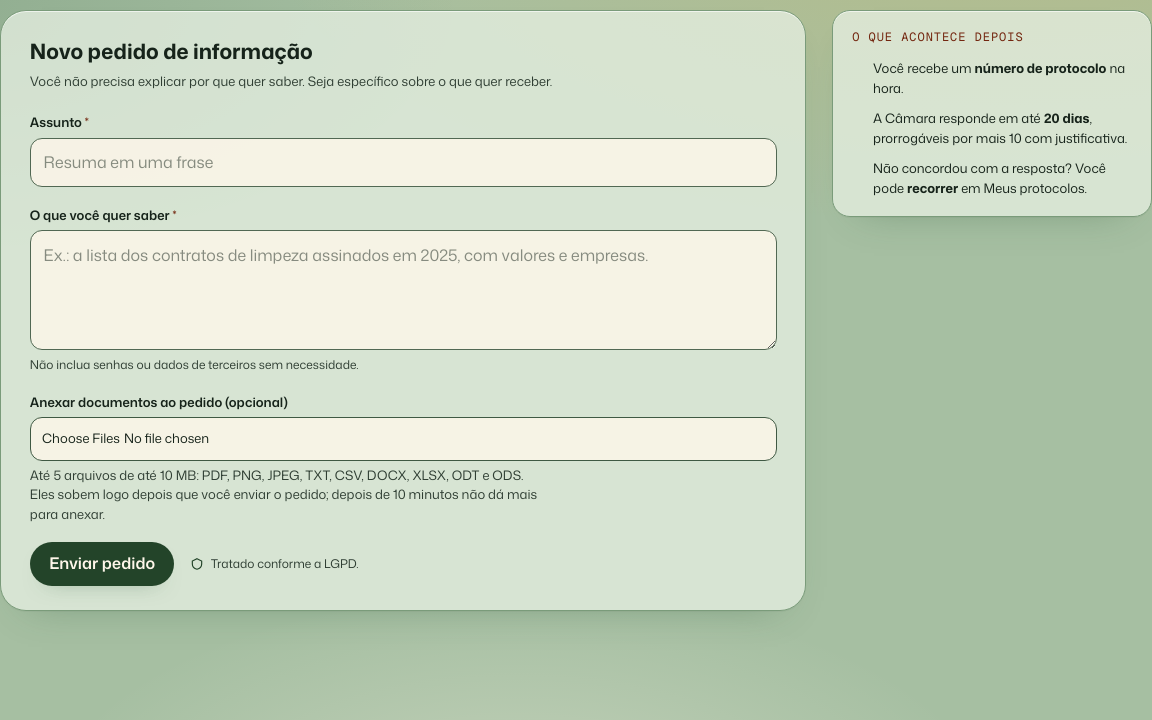
Test: formulários do cidadão › e-SIC: envia assunto e descrição e mostra o recibo com o protocolo
In the field labelled "Assunto *": (403, 163) [30, 138, 777, 187], type "Contratos de 2025"
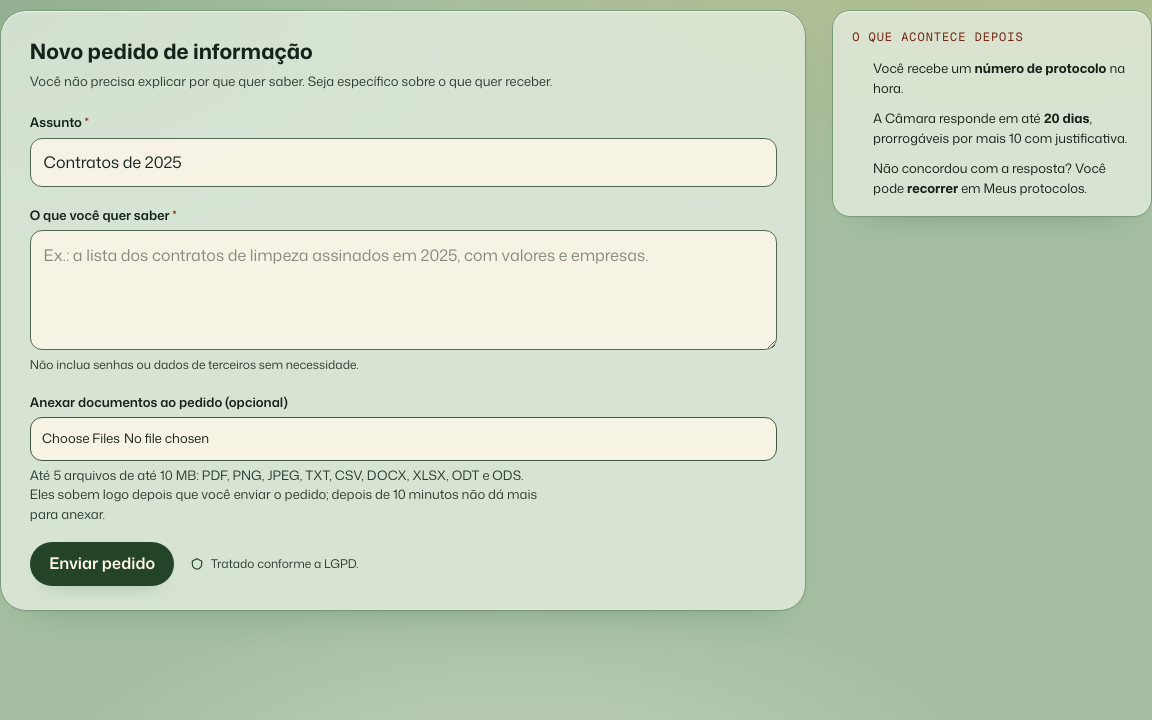
Replace the text in the text box labelled "O que você quer saber *" with "A lista dos contratos.": (403, 290) [30, 230, 777, 350]
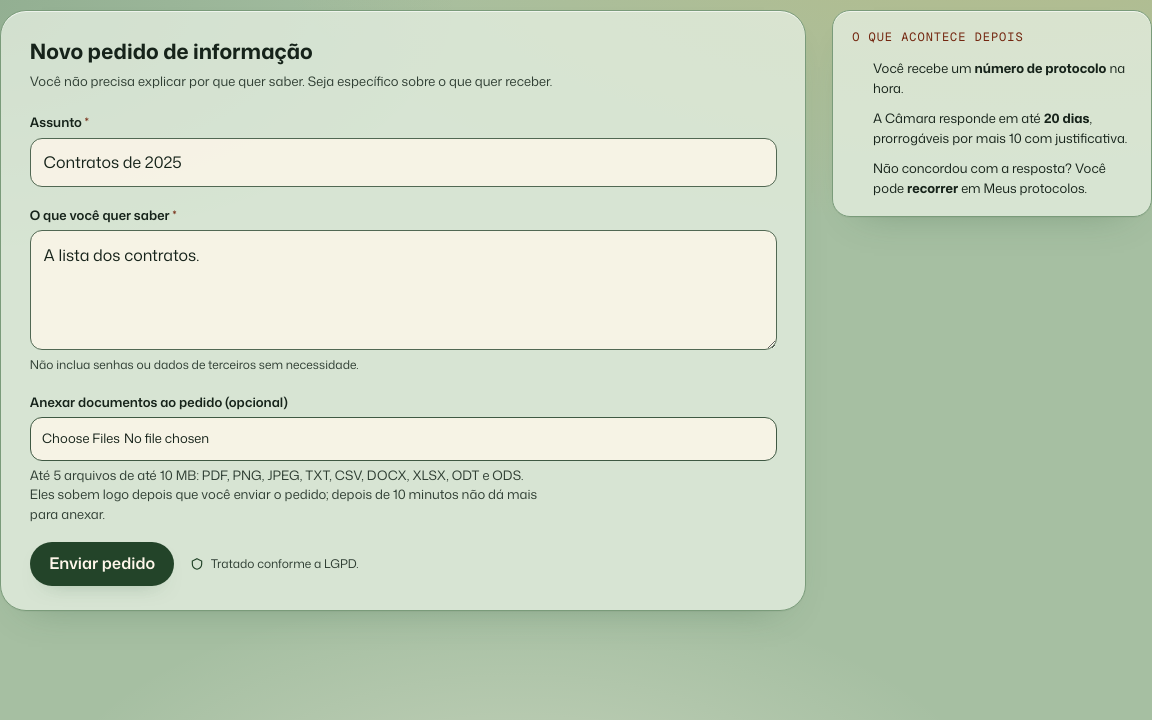
Click the button "Enviar pedido": (102, 564) [30, 542, 174, 586]
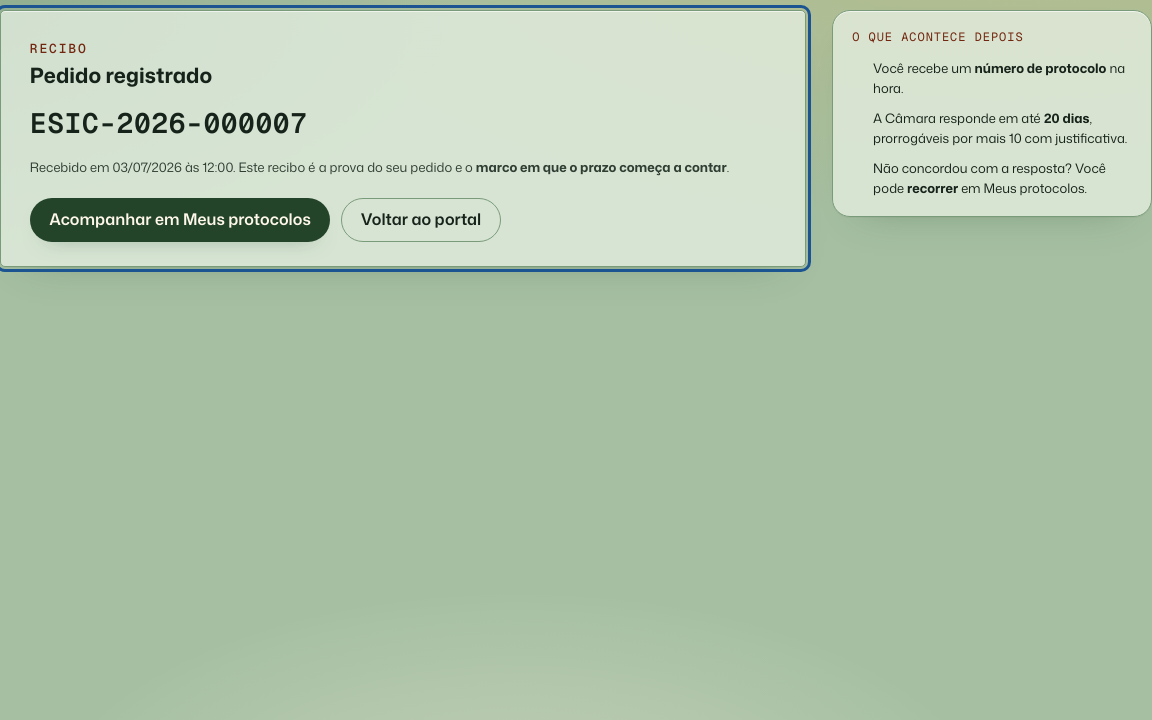
expect the text "ESIC-2026-000007" is shown: met, box [30, 104, 308, 140]
